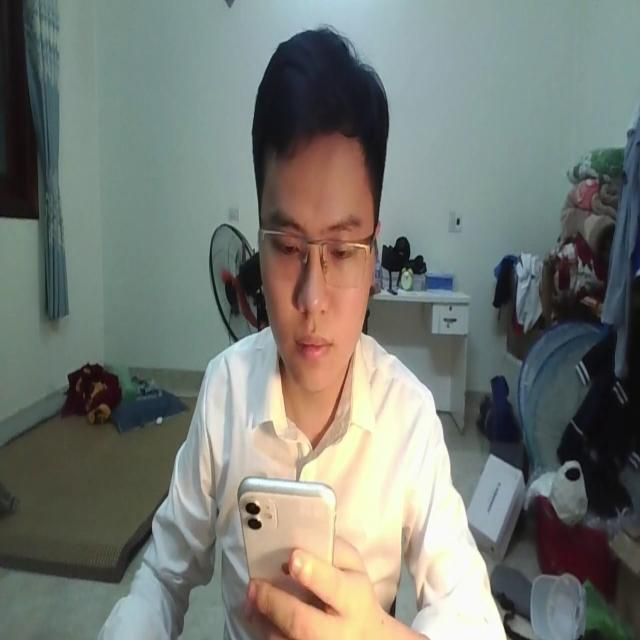phone: (238, 469, 336, 613)
student: (102, 26, 500, 640)
